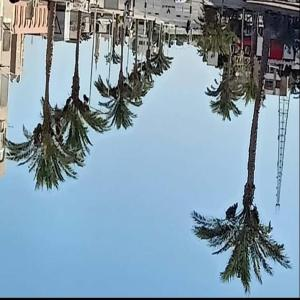palm tree: (189, 1, 299, 296)
